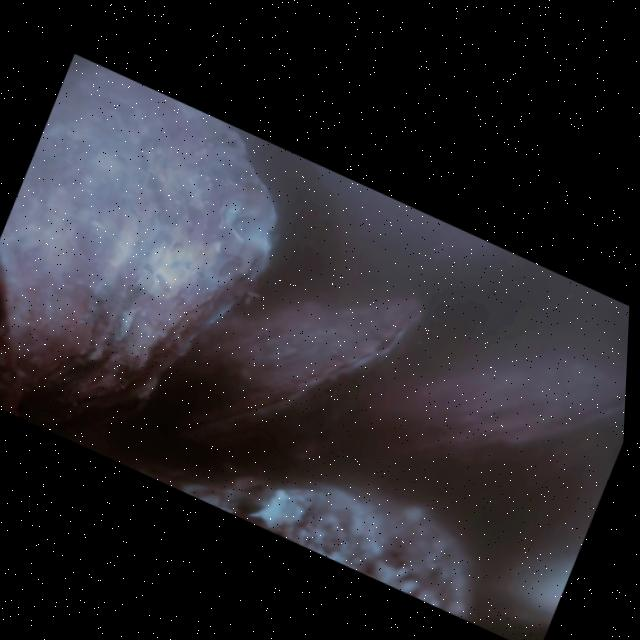Oyster-Closed: (338, 338, 627, 471), (165, 295, 430, 439)
Oyster-Indeterminate: (0, 57, 280, 421), (192, 476, 475, 616)
